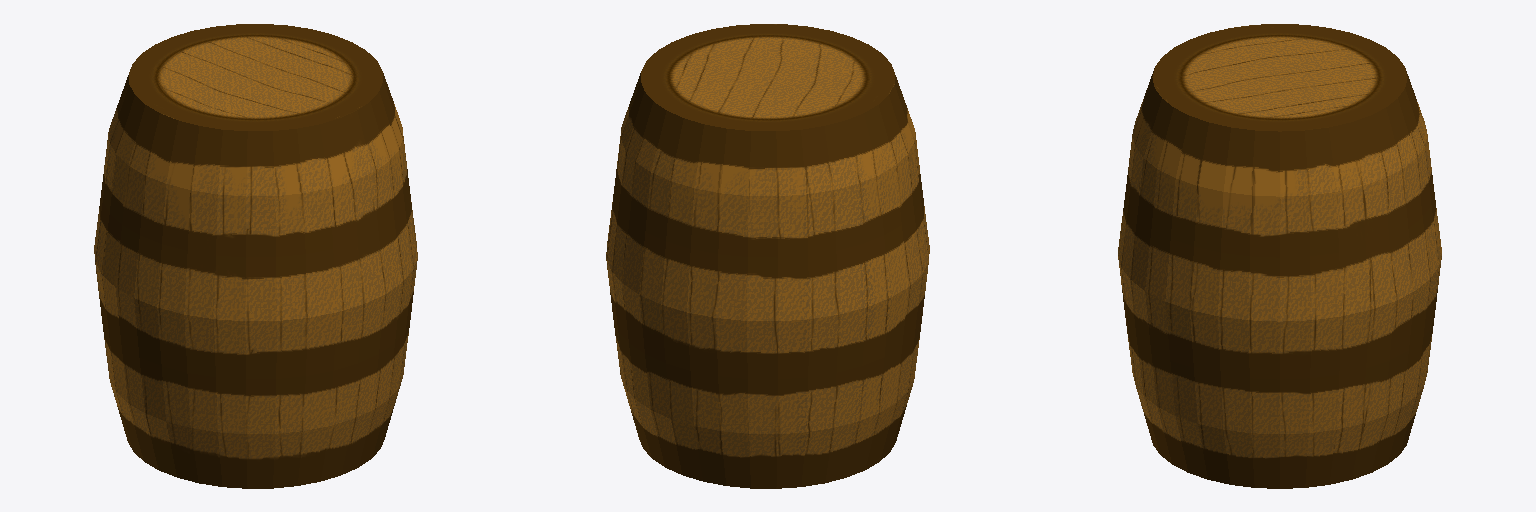
3 renders of one model, left to right at view 1: azimuth 30°, elevation 25°; view 2: azimuth 150°, elevation 25°; view 3: azimuth 270°, elevation 25°, orthographic.
Parts seen in each view (by area): view 1: obj.barrel.000_Cylinder; view 2: obj.barrel.000_Cylinder; view 3: obj.barrel.000_Cylinder.
Part boxes in pixels (left/top/right/bottom): obj.barrel.000_Cylinder: left=94, top=24, right=417, bottom=488; obj.barrel.000_Cylinder: left=606, top=24, right=929, bottom=488; obj.barrel.000_Cylinder: left=1118, top=24, right=1441, bottom=488.
Bounding box in the file's own units: 0.756 × 0.9168 × 0.756.
1 materials, 1 textured.